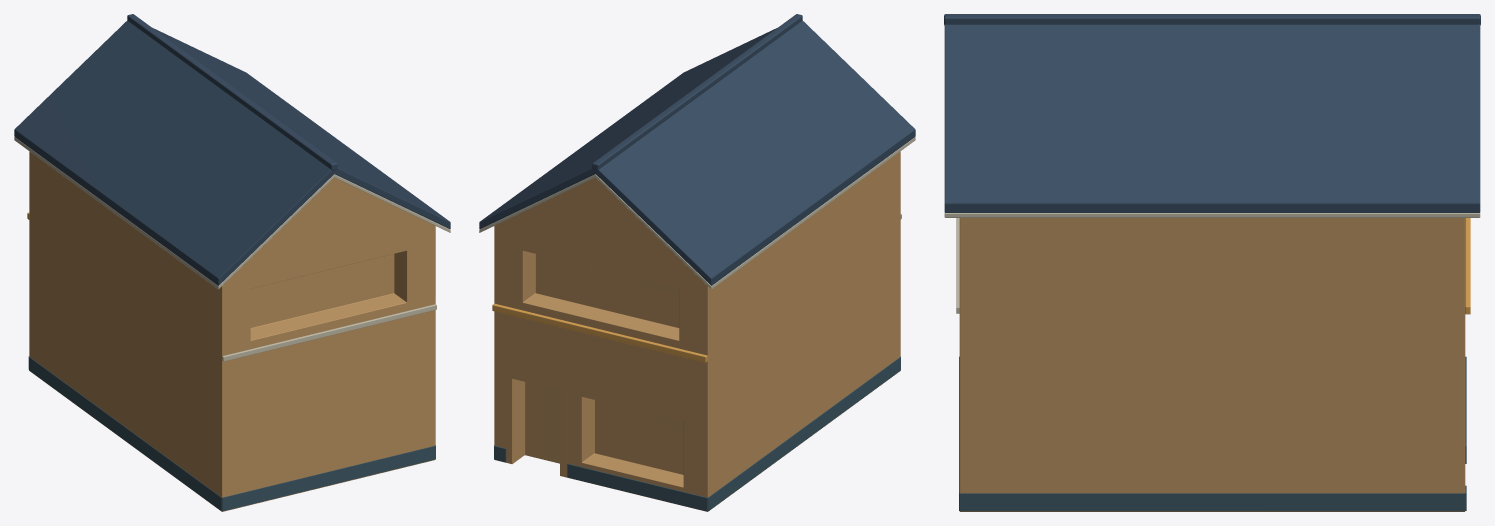
Rendered from d05_quay_frontages_01.glb.
3 renders of one model, left to right at view 1: azimuth 30°, elevation 25°; view 2: azimuth 150°, elevation 25°; view 3: azimuth 270°, elevation 25°, orthographic. The views are drawn at different scales.
Visible parts, largest first — view 1: D05QuayFrontages01_Mesh; view 2: D05QuayFrontages01_Mesh; view 3: D05QuayFrontages01_Mesh.
Part boxes in pixels (box(x1,y1,x2,y2)): D05QuayFrontages01_Mesh: box(14, 14, 450, 511); D05QuayFrontages01_Mesh: box(479, 14, 915, 511); D05QuayFrontages01_Mesh: box(944, 14, 1480, 511).
Size of the model in its own units: 6.96 by 9.35 by 10.62.
